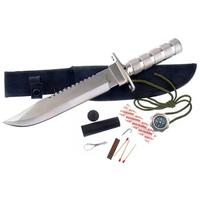knife: (3, 38, 180, 128)
